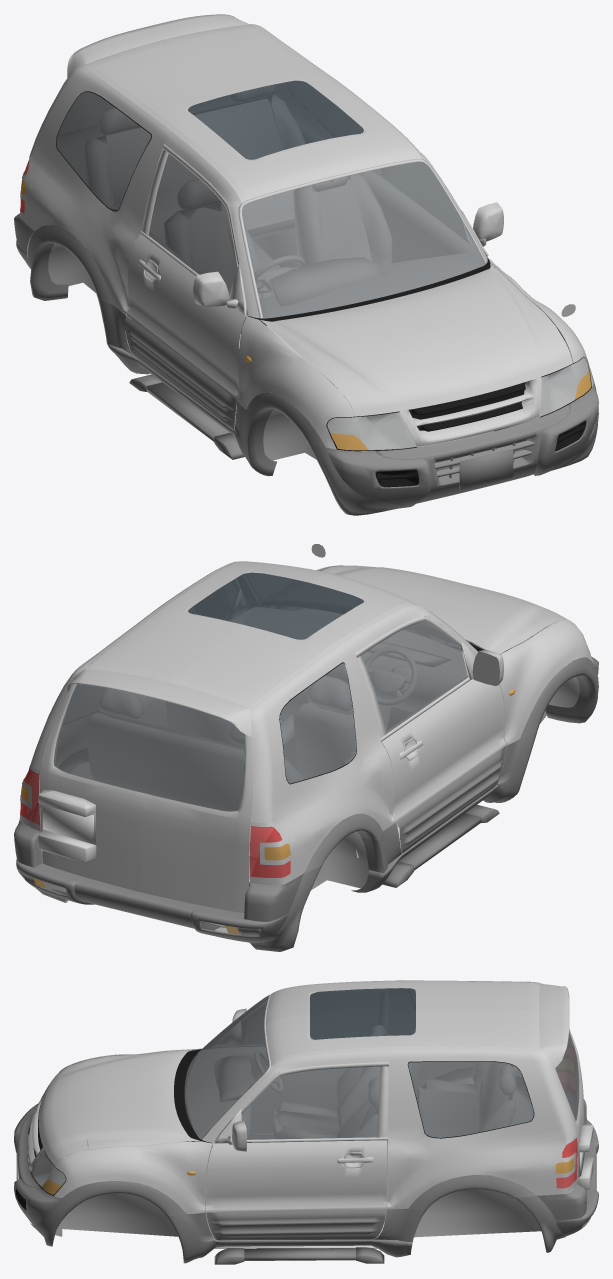
The picture shows the model from 3 angles, top to bottom: view 1: azimuth 30°, elevation 25°; view 2: azimuth 150°, elevation 25°; view 3: azimuth 270°, elevation 25°; orthographic projection. The views are drawn at different scales.
Parts seen in each view (by area): view 1: Entity150, Entity33; view 2: Entity150, Entity33; view 3: Entity150, Entity33.
Part boxes in pixels (x1,y1,x2,y2): Entity150: [14, 14, 598, 515]; Entity33: [56, 80, 485, 318]; Entity150: [14, 544, 598, 951]; Entity33: [53, 572, 467, 811]; Entity150: [14, 980, 598, 1264]; Entity33: [184, 988, 579, 1139].
Bounding box in the file's own units: 2.02 × 1.6 × 4.08.
